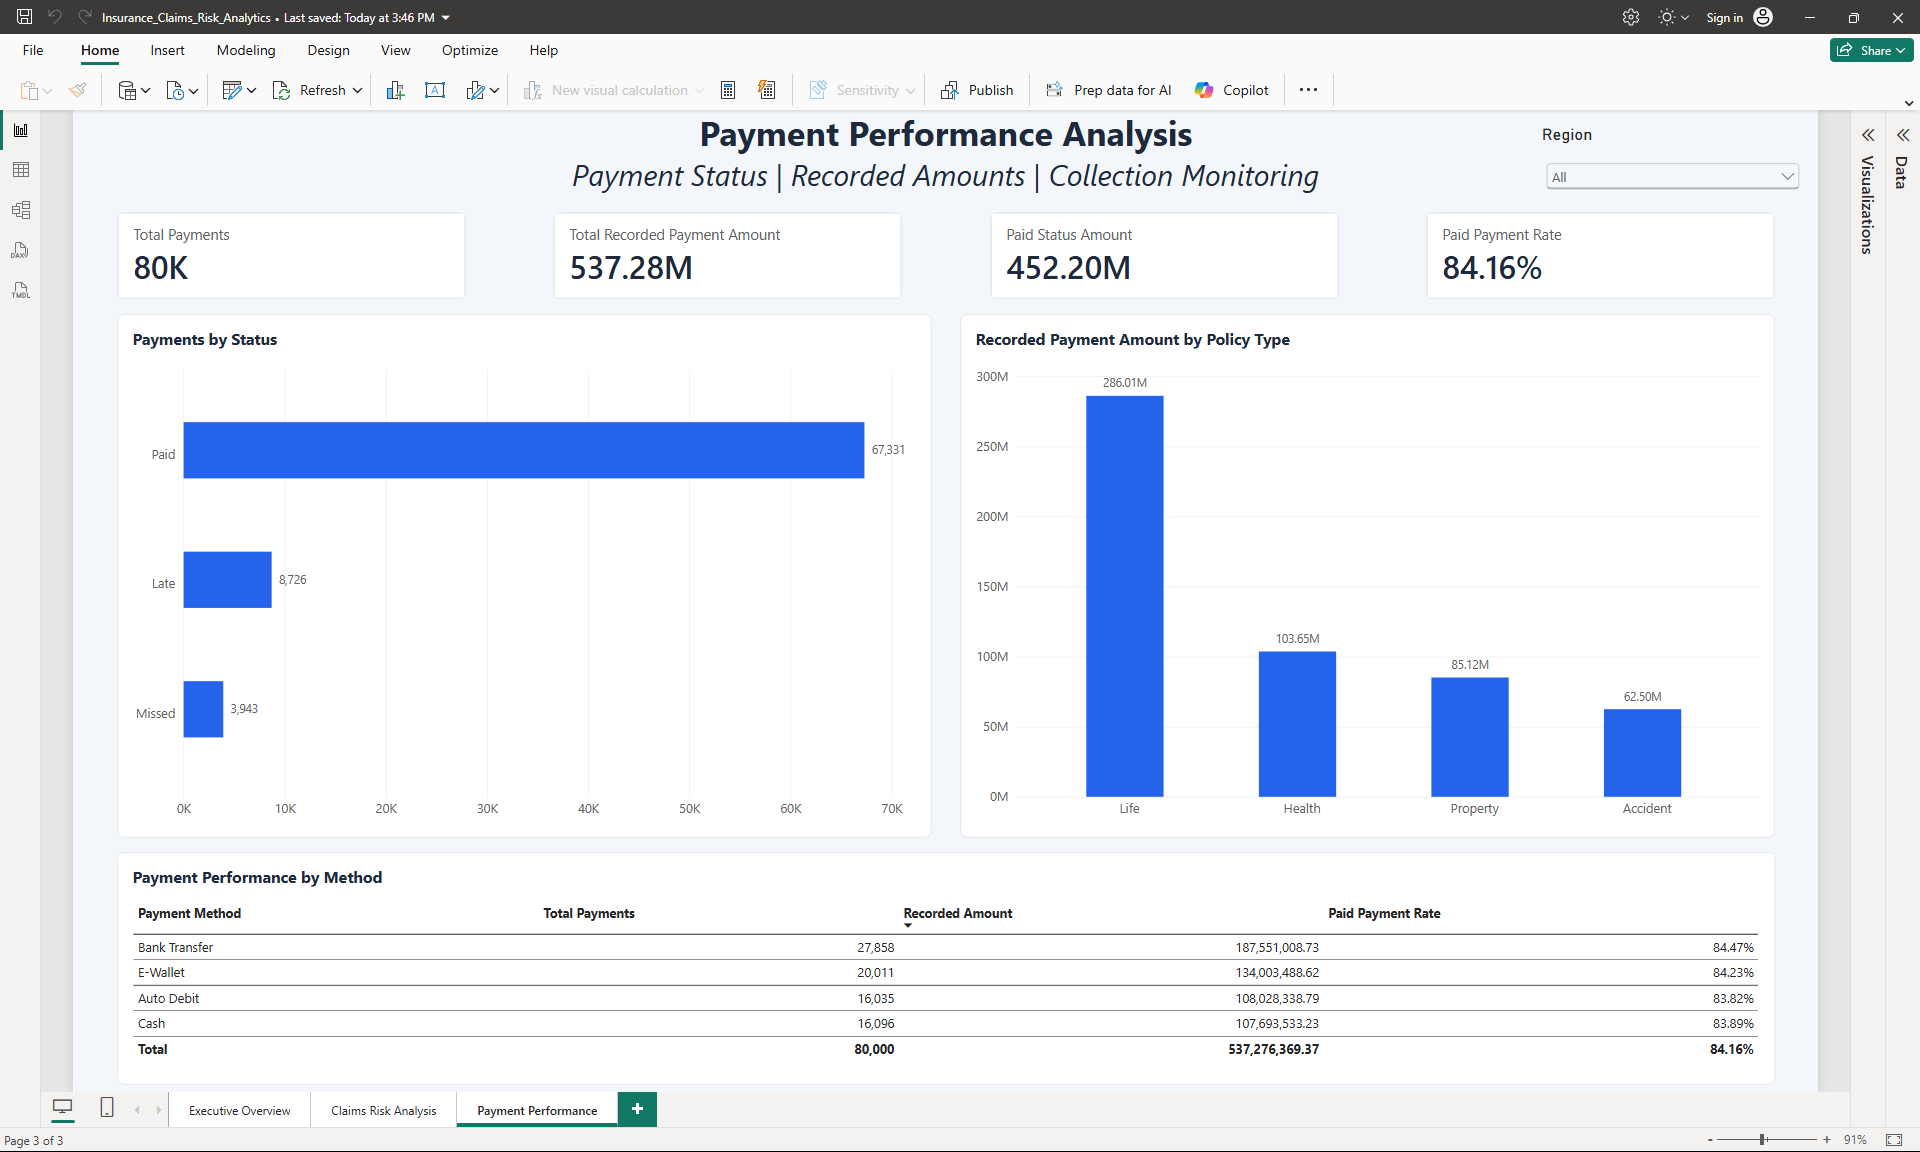

What the dashboard file says about the page in this screenshot:
{"tool":"powerbi","page":{"name":"Payment Performance","canvas":[1920,1080],"ordinal":2},"visuals":[{"type":"textbox","box":[479.7,0,960.6,96.2],"z":0},{"type":"cardVisual","fields":{"Data":["Payments.Total Payments"]},"box":[48,112,384,96],"z":1000},{"type":"cardVisual","fields":{"Data":["Payments.Paid Status Amount"]},"box":[1008,112,384,96],"z":2000},{"type":"cardVisual","fields":{"Data":["Payments.Paid Payment Rate"]},"box":[1488,112,384,96],"z":3000},{"type":"cardVisual","fields":{"Data":["Payments.Total Recorded Payment Amount"]},"box":[528,112,384,96],"z":4000},{"type":"clusteredBarChart","title":"Payments by Status","fields":{"Category":["Payments.payment_status"],"Y":["Payments.Total Payments"]},"box":[48,224,896,576],"z":5000},{"type":"clusteredColumnChart","title":"Recorded Payment Amount by Policy Type","fields":{"Category":["Policies.policy_type"],"Y":["Payments.Total Recorded Payment Amount"]},"box":[976,224,896,576],"z":6000},{"type":"tableEx","title":"Payment Performance by Method","fields":{"Values":["Payments.payment_method","Payments.Total Payments","Payments.Total Recorded Payment Amount","Payments.Paid Payment Rate"]},"box":[48,816,1824,256],"z":7000},{"type":"slicer","title":"Region","fields":{"Values":["Customers.region"]},"box":[1616,16,288,80],"z":8000}]}

Visuals, with their boxes on the page's 1920x1080 design canvas (x1, y1, x2, y2). These are canvas units, not pixel positions in the 1920x1152 screenshot, which may show the page scaled, cropped or inside an application window:
textbox: box=[480, 0, 1440, 96]
cardVisual - Payments.Total Payments: box=[48, 112, 432, 208]
cardVisual - Payments.Paid Status Amount: box=[1008, 112, 1392, 208]
cardVisual - Payments.Paid Payment Rate: box=[1488, 112, 1872, 208]
cardVisual - Payments.Total Recorded Payment Amount: box=[528, 112, 912, 208]
"Payments by Status" clusteredBarChart: box=[48, 224, 944, 800]
"Recorded Payment Amount by Policy Type" clusteredColumnChart: box=[976, 224, 1872, 800]
"Payment Performance by Method" tableEx: box=[48, 816, 1872, 1072]
"Region" slicer: box=[1616, 16, 1904, 96]
